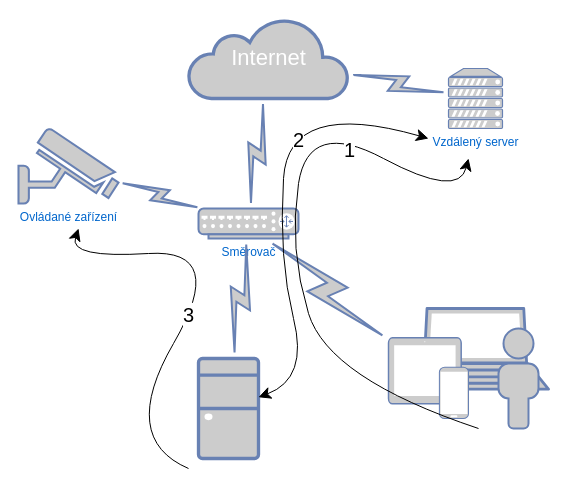
Image size: 566x496. Some labels were removed from this diagram. The box of each missing label's shape, as (x1, y1, x2, y2) in pixels:
Raspberry Pi: (197, 357, 259, 459)
Uživatel: (497, 327, 539, 429)
